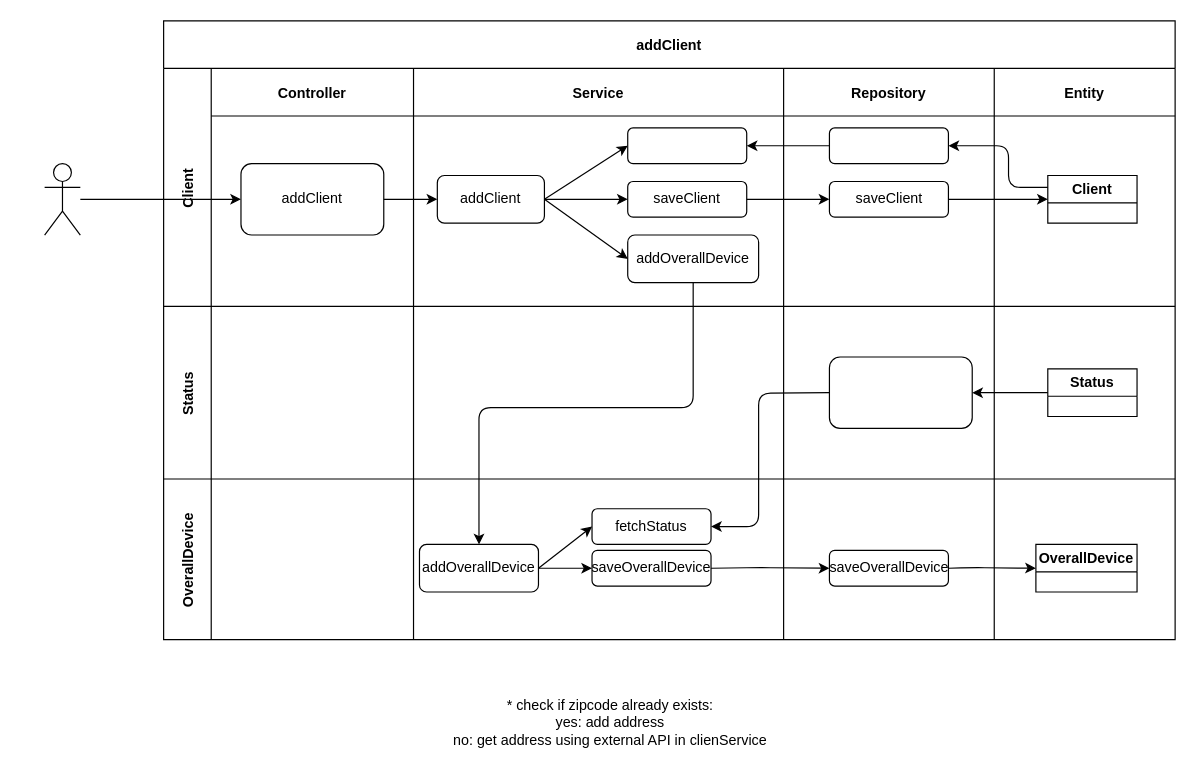
This 1196x779 diagram has some shape labels left out. The centre of each missing label's shape, as x and y in pixels:
"ClientAdvisor" goes at (x=61, y=198).
"fetchAddress*" goes at (x=687, y=145).
"fetchStatus" goes at (x=900, y=392).
"findByZipCode" goes at (x=888, y=145).
